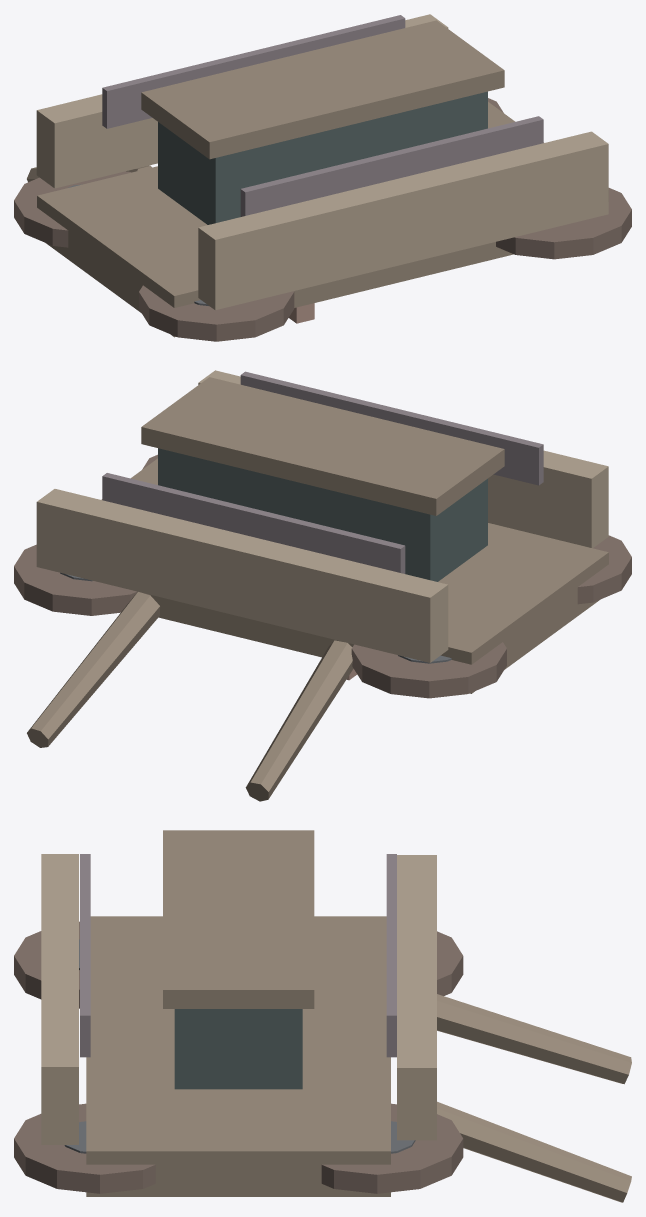
The model's file is abandoned_funeral_cart.glb.
3 views of the same model, one above another, from view 1: azimuth 30°, elevation 25°; view 2: azimuth 150°, elevation 25°; view 3: azimuth 270°, elevation 25° (orthographic). The views are drawn at different scales.
Visible parts, largest first — view 1: abandoned_funeral_cart_material_00, abandoned_funeral_cart_material_01, abandoned_funeral_cart_material_04, abandoned_funeral_cart_material_06, abandoned_funeral_cart_material_02; view 2: abandoned_funeral_cart_material_00, abandoned_funeral_cart_material_01, abandoned_funeral_cart_material_04, abandoned_funeral_cart_material_06, abandoned_funeral_cart_material_02; view 3: abandoned_funeral_cart_material_00, abandoned_funeral_cart_material_01, abandoned_funeral_cart_material_02, abandoned_funeral_cart_material_04, abandoned_funeral_cart_material_06, abandoned_funeral_cart_material_03.
Boxes of the visible parts, bbox=[...] form: abandoned_funeral_cart_material_00: bbox=[27, 20, 608, 337]; abandoned_funeral_cart_material_01: bbox=[36, 14, 608, 310]; abandoned_funeral_cart_material_04: bbox=[158, 91, 487, 224]; abandoned_funeral_cart_material_06: bbox=[102, 15, 543, 216]; abandoned_funeral_cart_material_02: bbox=[14, 98, 631, 341]; abandoned_funeral_cart_material_00: bbox=[27, 377, 608, 801]; abandoned_funeral_cart_material_01: bbox=[36, 370, 608, 662]; abandoned_funeral_cart_material_04: bbox=[158, 448, 487, 581]; abandoned_funeral_cart_material_06: bbox=[102, 371, 543, 573]; abandoned_funeral_cart_material_02: bbox=[14, 454, 631, 698]; abandoned_funeral_cart_material_00: bbox=[86, 830, 631, 1202]; abandoned_funeral_cart_material_01: bbox=[41, 854, 436, 1144]; abandoned_funeral_cart_material_02: bbox=[14, 921, 463, 1193]; abandoned_funeral_cart_material_04: bbox=[174, 1009, 302, 1089]; abandoned_funeral_cart_material_06: bbox=[80, 854, 396, 1057]; abandoned_funeral_cart_material_03: bbox=[64, 939, 415, 1153].
Size of the model in its own units: 2.88 by 1.34 by 2.94.
